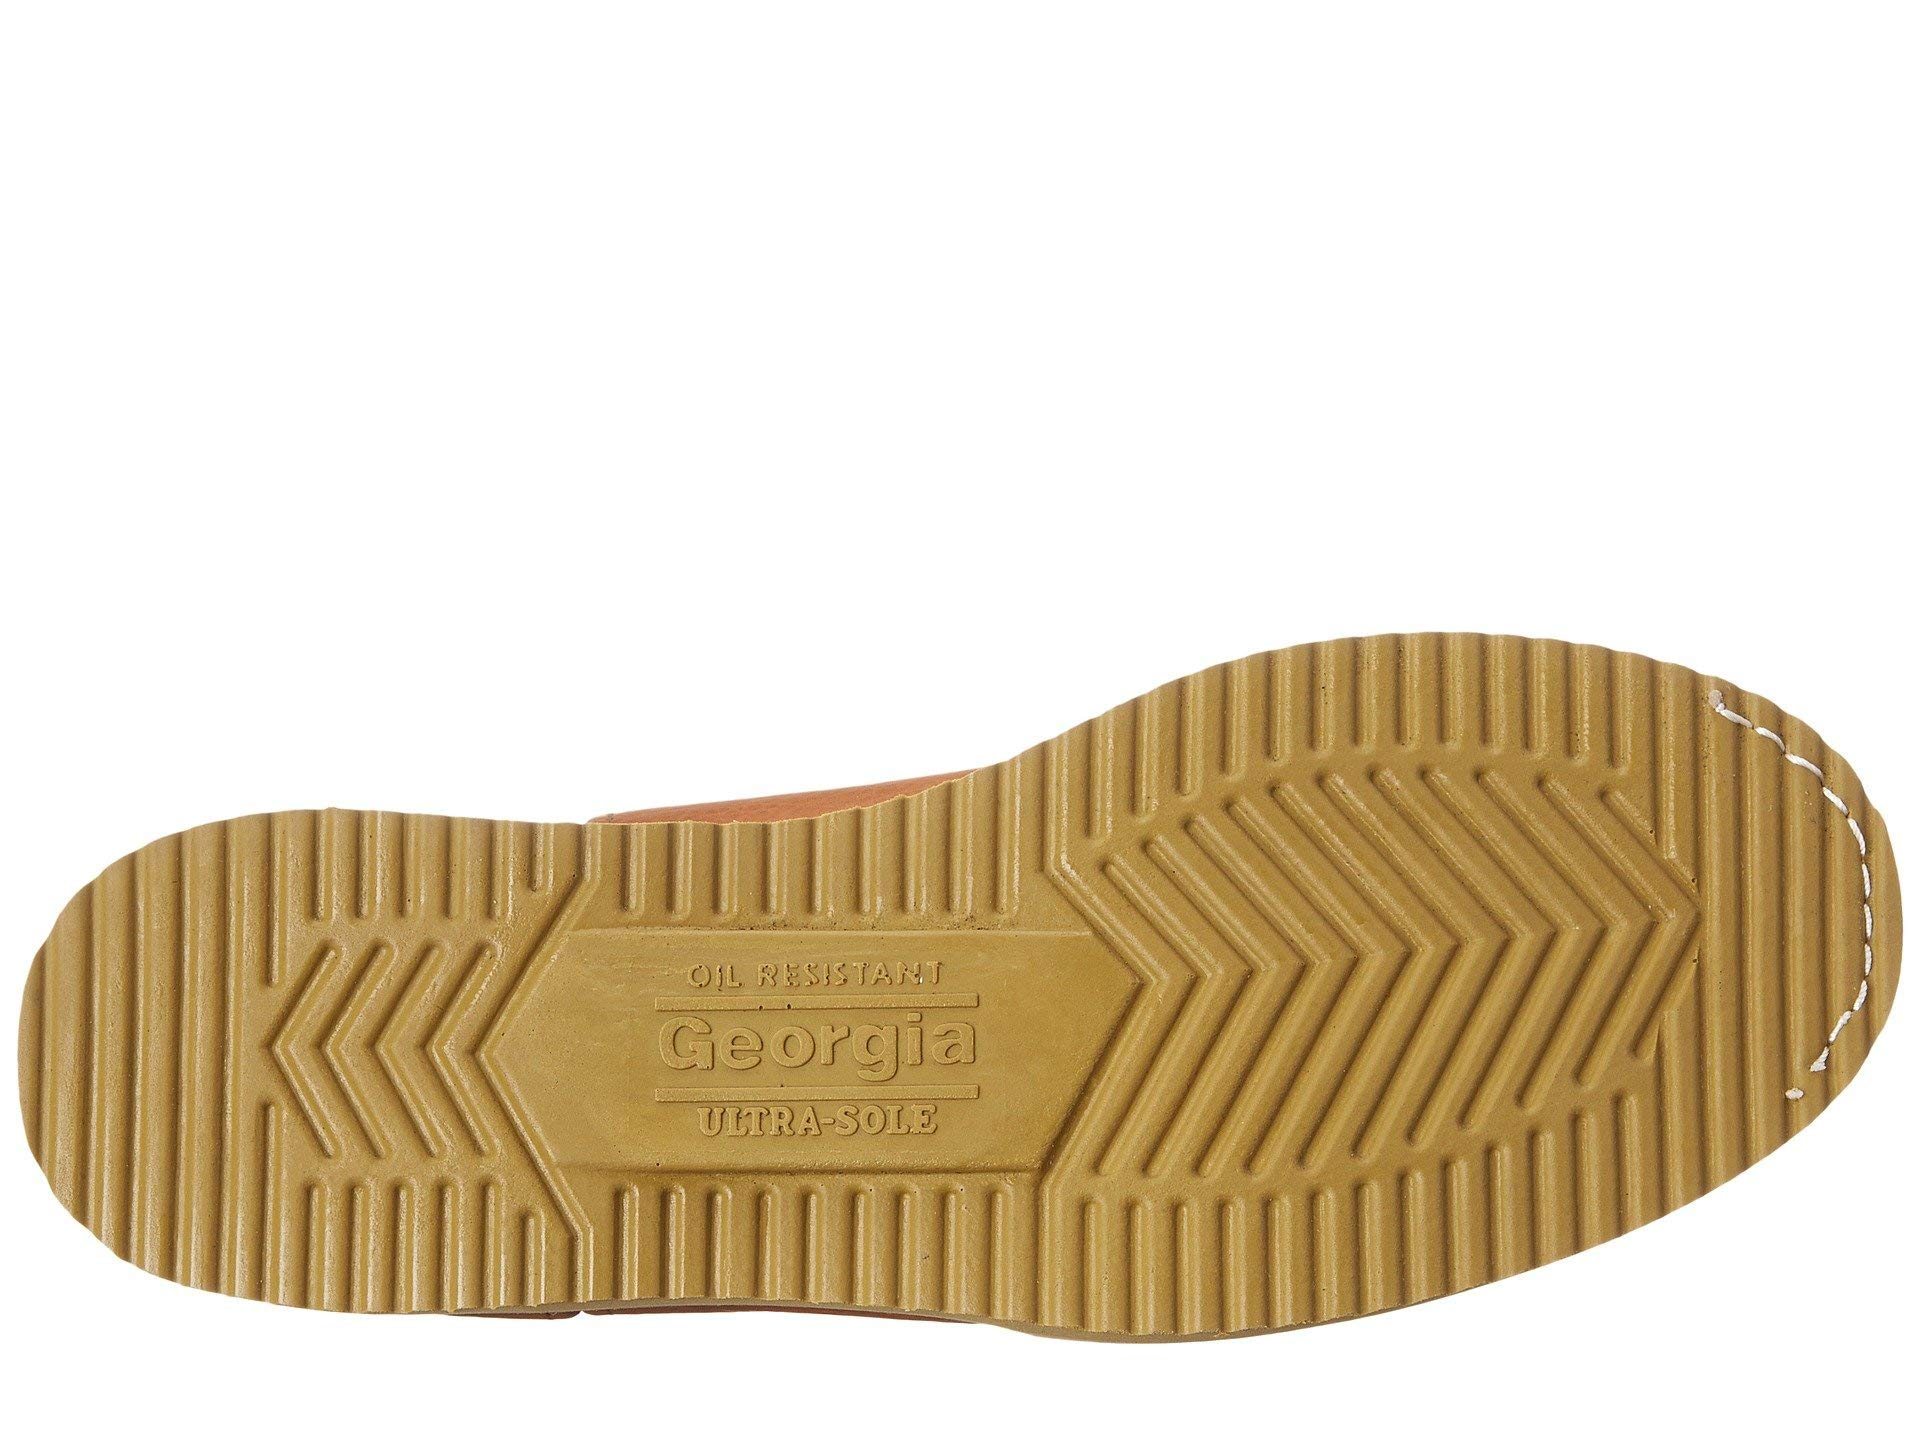chevron: (1166, 790, 1624, 1100), (246, 926, 505, 1172)
circle: (584, 933, 1036, 1150)
line: (584, 933, 1036, 1150), (1705, 681, 1869, 1136), (62, 886, 222, 1234), (1237, 653, 1652, 755)
text: (584, 933, 1036, 1150)
